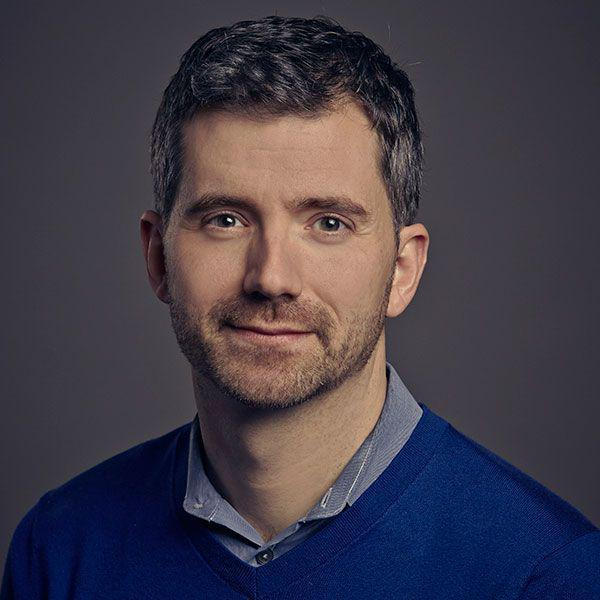Sober: (185, 94, 386, 403)
